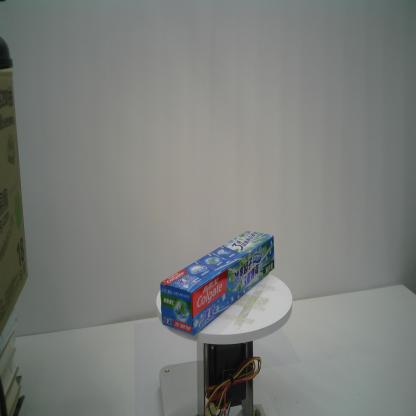Personal Hygiene: (159, 228, 276, 337)
